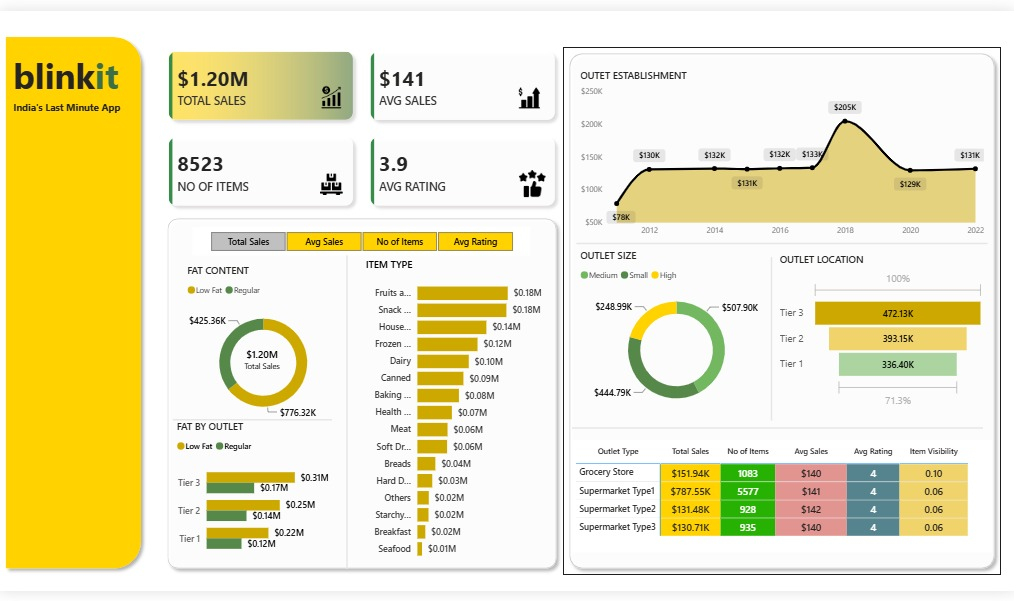

The dashboard page shown, as its layout file describes it:
{"tool":"powerbi","page":{"name":"Blinkit Dashboard","canvas":[1400,800],"ordinal":0},"visuals":[{"type":"shape","box":[0,26.9,204.6,750.3],"z":0},{"type":"textbox","box":[14.5,49.6,177.8,88.9],"z":1000},{"type":"textbox","box":[14.5,117.8,175.7,41.3],"z":2000},{"type":"cardVisual","fields":{"Data":["BlinkIT Grocery Data.Total Sales","BlinkIT Grocery Data.Avg Sales","BlinkIT Grocery Data.No of Items","BlinkIT Grocery Data.Avg Rating"]},"box":[204.6,26.9,591.1,270.8],"z":3000},{"type":"image","box":[442.3,99.2,31,39.3],"z":4000},{"type":"image","box":[715.2,99.2,31,41.3],"z":5000},{"type":"image","box":[442.3,219.1,31,39.3],"z":6000},{"type":"image","box":[715.2,219.1,39.3,37.2],"z":7000},{"type":"shape","box":[223.2,277,553.9,500.2],"z":8000},{"type":"donutChart","title":"FAT CONTENT","fields":{"Y":["BlinkIT Grocery Data.Total Sales"],"Category":["BlinkIT Grocery Data.Item Fat Content"]},"box":[254.2,347.2,219.1,229.4],"z":9000},{"type":"slicer","fields":{"Values":["Metrics.Metrics"]},"box":[266.6,297.6,465.1,39.3],"z":10000},{"type":"cardVisual","fields":{"Data":["BlinkIT Grocery Data.Total Sales"]},"box":[305.9,446.5,113.7,66.1],"z":11000},{"type":"clusteredBarChart","title":"FAT BY OUTLET","fields":{"Y":["BlinkIT Grocery Data.Total Sales"],"Category":["BlinkIT Grocery Data.Outlet Location Type"],"Series":["BlinkIT Grocery Data.Item Fat Content"]},"box":[239.8,562.2,219.1,200.5],"z":12000},{"type":"shape","box":[239.8,551.9,219.1,22.7],"z":13000},{"type":"shape","box":[473.3,336.9,12.4,432],"z":14000},{"type":"barChart","title":"ITEM TYPE","fields":{"Y":["BlinkIT Grocery Data.Total Sales"],"Category":["BlinkIT Grocery Data.Item Type"]},"box":[500.2,339,252.2,425.8],"z":15000},{"type":"shape","box":[777.2,49.6,603.5,727.6],"z":16000},{"type":"lineChart","title":"OUTET ESTABLISHMENT","fields":{"Category":["BlinkIT Grocery Data.Outlet Establishment Year"],"Y":["BlinkIT Grocery Data.Total Sales"]},"box":[795.8,78.5,566.3,239.8],"z":17000},{"type":"donutChart","title":"OUTLET SIZE","fields":{"Y":["BlinkIT Grocery Data.Total Sales"],"Category":["BlinkIT Grocery Data.Outlet Size"]},"box":[795.8,326.6,274.9,235.6],"z":18000},{"type":"shape","box":[1058.3,339,12.4,225.3],"z":19000},{"type":"funnel","title":"OUTLET LOCATION","fields":{"Category":["BlinkIT Grocery Data.Outlet Location Type"],"Y":["Sum(BlinkIT Grocery Data.Sales)"]},"box":[1070.7,332.8,291.4,219.1],"z":20000},{"type":"shape","box":[795.8,308,566.3,24.8],"z":21000},{"type":"shape","box":[789.6,562.2,566.3,24.8],"z":22000},{"type":"pivotTable","title":"OUTLET TYPE ","fields":{"Rows":["BlinkIT Grocery Data.Outlet Type"],"Values":["BlinkIT Grocery Data.Total Sales","BlinkIT Grocery Data.No of Items","BlinkIT Grocery Data.Avg Sales","BlinkIT Grocery Data.Avg Rating","Avg(BlinkIT Grocery Data.Item Visibility)"]},"box":[789.6,591.1,578.7,155],"z":23000},{"type":"slicer","fields":{"Values":["BlinkIT Grocery Data.Outlet Location Type"]},"box":[14.5,262.5,175.7,64.1],"z":23001},{"type":"slicer","fields":{"Values":["BlinkIT Grocery Data.Outlet Size"]},"box":[14.5,349.3,175.7,64.1],"z":23002},{"type":"slicer","fields":{"Values":["BlinkIT Grocery Data.Item Type"]},"box":[16.5,429.9,175.7,64.1],"z":23003},{"type":"textbox","box":[16.5,217,175.7,41.3],"z":23004}]}

Visuals, with their boxes on the page's 1400x800 design canvas (x1, y1, x2, y2). These are canvas units, not pixel positions in the 1014x601 screenshot, which may show the page scaled, cropped or inside an application window:
shape: Rect(0, 27, 205, 777)
textbox: Rect(14, 50, 192, 138)
textbox: Rect(14, 118, 190, 159)
cardVisual - BlinkIT Grocery Data.Total Sales x BlinkIT Grocery Data.Avg Sales: Rect(205, 27, 796, 298)
image: Rect(442, 99, 473, 138)
image: Rect(715, 99, 746, 140)
image: Rect(442, 219, 473, 258)
image: Rect(715, 219, 754, 256)
shape: Rect(223, 277, 777, 777)
"FAT CONTENT" donutChart: Rect(254, 347, 473, 577)
slicer - Metrics.Metrics: Rect(267, 298, 732, 337)
cardVisual - BlinkIT Grocery Data.Total Sales: Rect(306, 446, 420, 513)
"FAT BY OUTLET" clusteredBarChart: Rect(240, 562, 459, 763)
shape: Rect(240, 552, 459, 575)
shape: Rect(473, 337, 486, 769)
"ITEM TYPE" barChart: Rect(500, 339, 752, 765)
shape: Rect(777, 50, 1381, 777)
"OUTET ESTABLISHMENT" lineChart: Rect(796, 78, 1362, 318)
"OUTLET SIZE" donutChart: Rect(796, 327, 1071, 562)
shape: Rect(1058, 339, 1071, 564)
"OUTLET LOCATION" funnel: Rect(1071, 333, 1362, 552)
shape: Rect(796, 308, 1362, 333)
shape: Rect(790, 562, 1356, 587)
"OUTLET TYPE " pivotTable: Rect(790, 591, 1368, 746)
slicer - BlinkIT Grocery Data.Outlet Location Type: Rect(14, 262, 190, 327)
slicer - BlinkIT Grocery Data.Outlet Size: Rect(14, 349, 190, 413)
slicer - BlinkIT Grocery Data.Item Type: Rect(16, 430, 192, 494)
textbox: Rect(16, 217, 192, 258)
